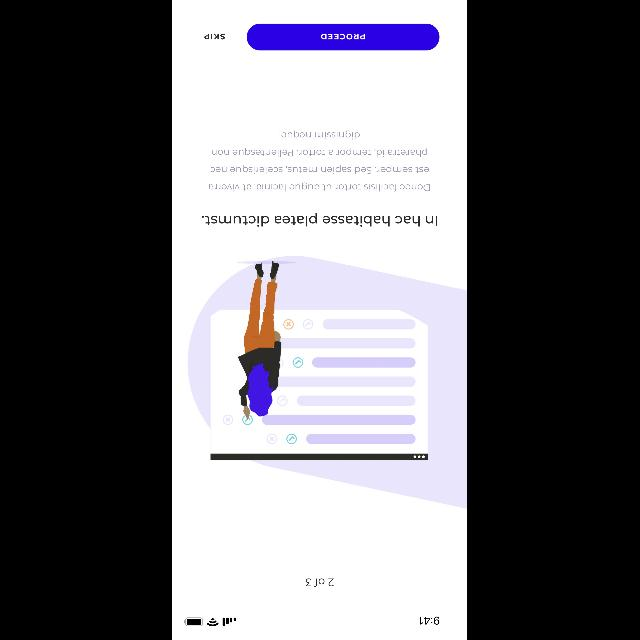image: (208, 258, 432, 462)
text: (210, 130, 430, 192), (202, 214, 438, 226), (306, 578, 334, 586), (205, 34, 225, 40)
textbutton: (248, 24, 440, 51)
uppertaskbar: (184, 616, 440, 626)
